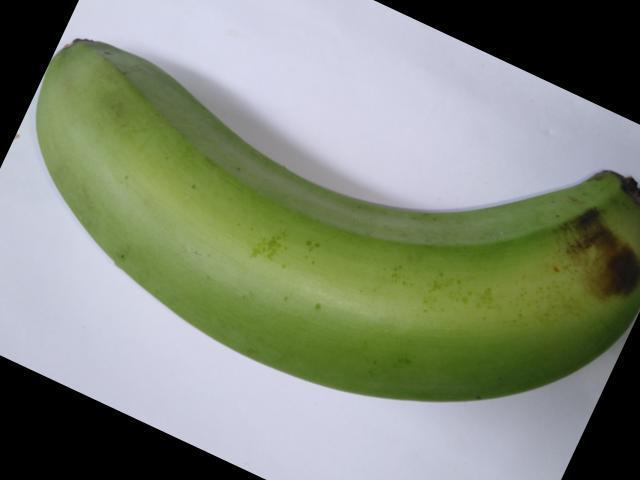freshunripe: (24, 23, 639, 416)
